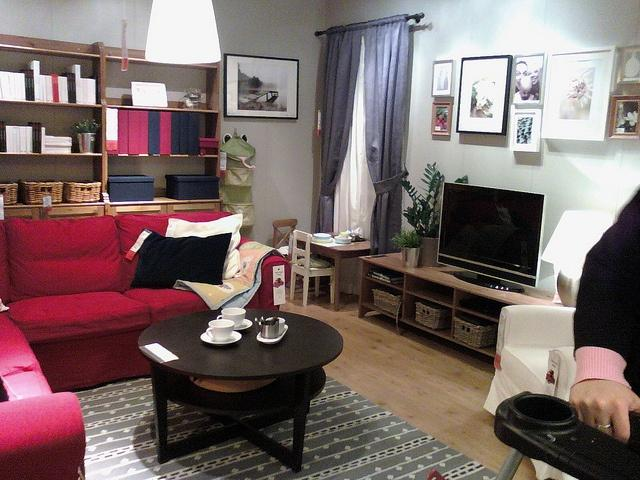AIO PC-Monitor-TV: (436, 181, 547, 293)
Kursi: (289, 228, 336, 306)
Meja: (136, 307, 344, 472)
Rak: (0, 32, 221, 219)
